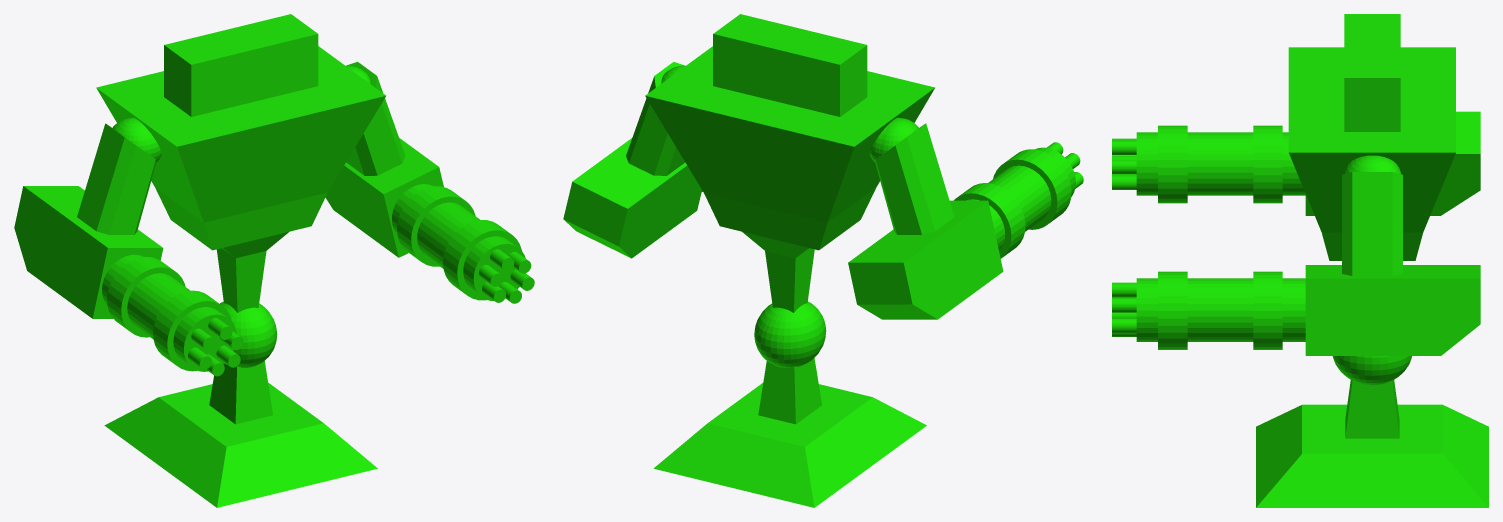
Rendered from AH_Enemy_prototype 1.fbx.
The picture shows the model from 3 angles, left to right: view 1: azimuth 30°, elevation 25°; view 2: azimuth 150°, elevation 25°; view 3: azimuth 270°, elevation 25°; orthographic projection. The views are drawn at different scales.
Parts seen in each view (by area): view 1: Cube; view 2: Cube; view 3: Cube.
Boxes of the visible parts, x1,y1,x2,y2 form: Cube: [14, 14, 534, 507]; Cube: [563, 14, 1083, 507]; Cube: [1112, 14, 1488, 507].
Bounding box in the file's own units: 4.07 × 4.39 × 3.56.
